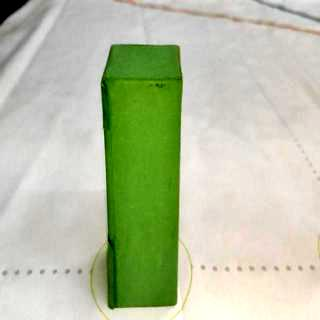greenbox: (98, 39, 184, 310)
